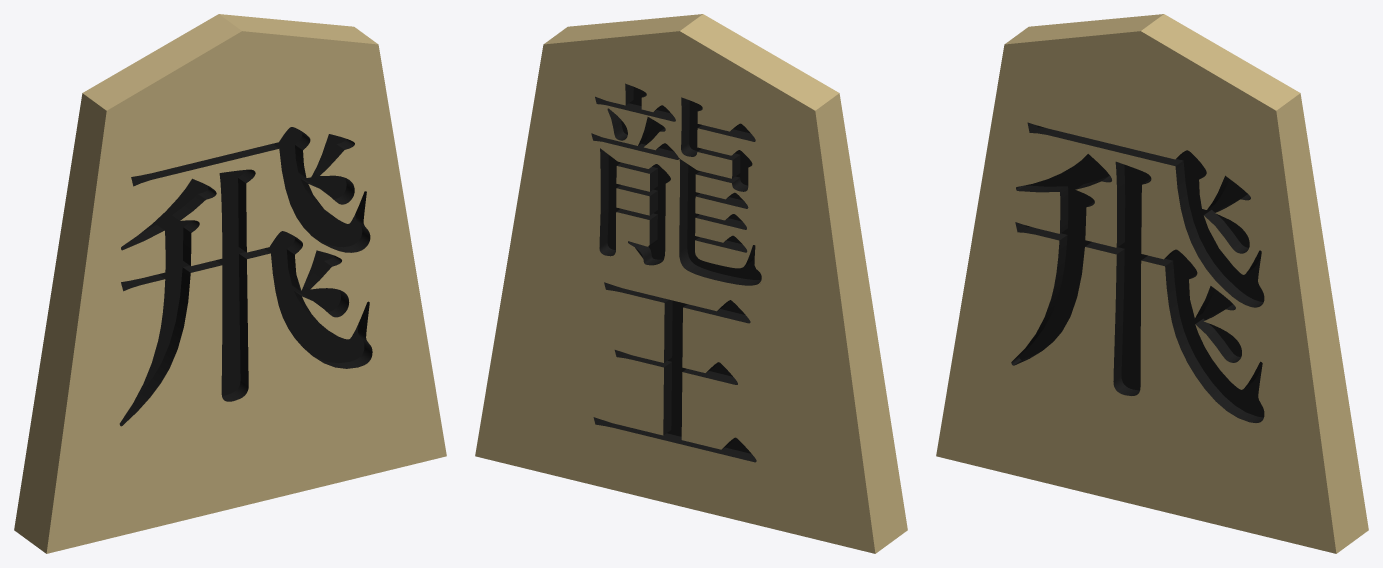
3 views of the same model, side by side, from view 1: azimuth 30°, elevation 25°; view 2: azimuth 150°, elevation 25°; view 3: azimuth 330°, elevation 25° (orthographic).
Visible parts, largest first — view 1: hisha; view 2: hisha; view 3: hisha.
Part boxes in pixels (x1,y1,x2,y2): hisha: (14,14,446,553); hisha: (475,14,907,553); hisha: (936,14,1368,553).
Size of the model in its own units: 0.0285 by 0.032 by 0.004.
